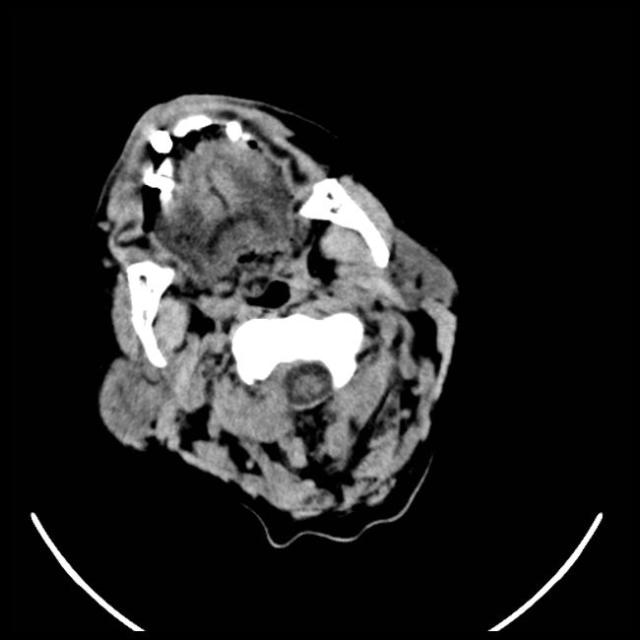lesion: (89, 89, 464, 536)
